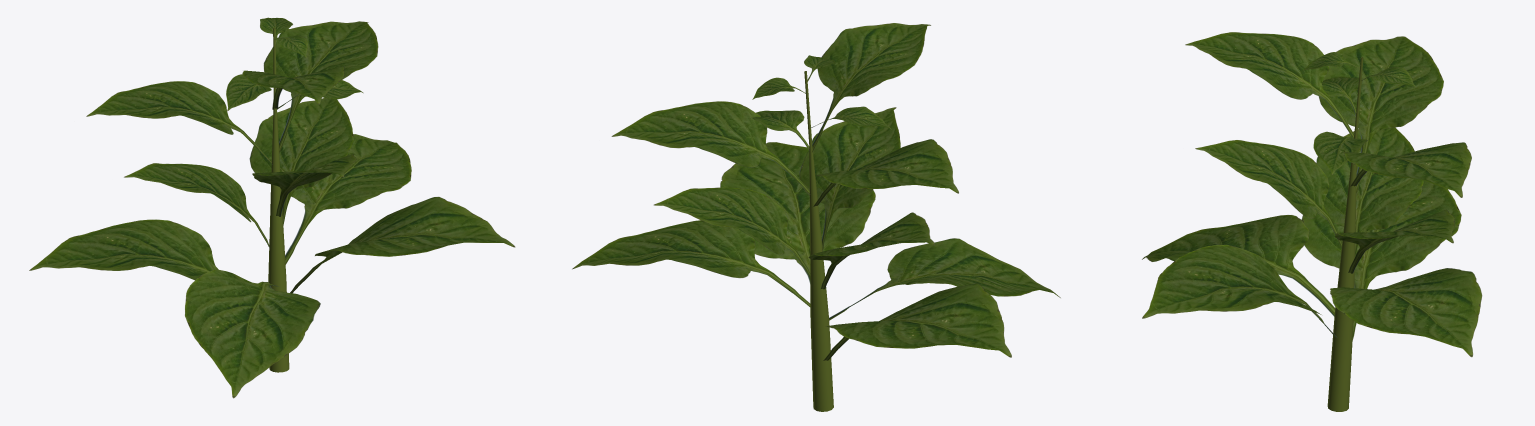
File: bellpepper_step2-transformed.glb
3 renders of one model, left to right at view 1: azimuth 30°, elevation 25°; view 2: azimuth 150°, elevation 25°; view 3: azimuth 270°, elevation 25°, orthographic. The views are drawn at different scales.
Visible parts, largest first — view 1: result1; view 2: result1; view 3: result1.
Boxes of the visible parts, x1,y1,x2,y2 form: result1: (29,17,515,398); result1: (572,23,1060,411); result1: (1142,32,1482,411).
Bounding box in the file's own units: 6.09 × 4.6 × 4.75.
Materials: 2 (2 with a texture image).
